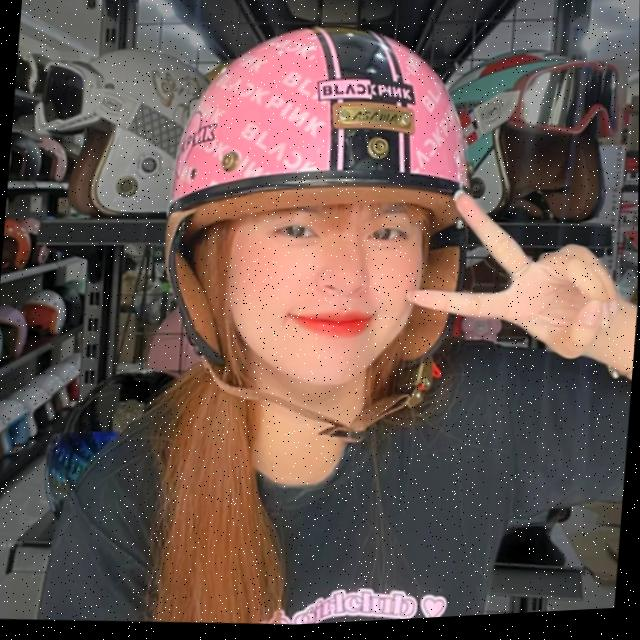helmet: (145, 4, 493, 467)
